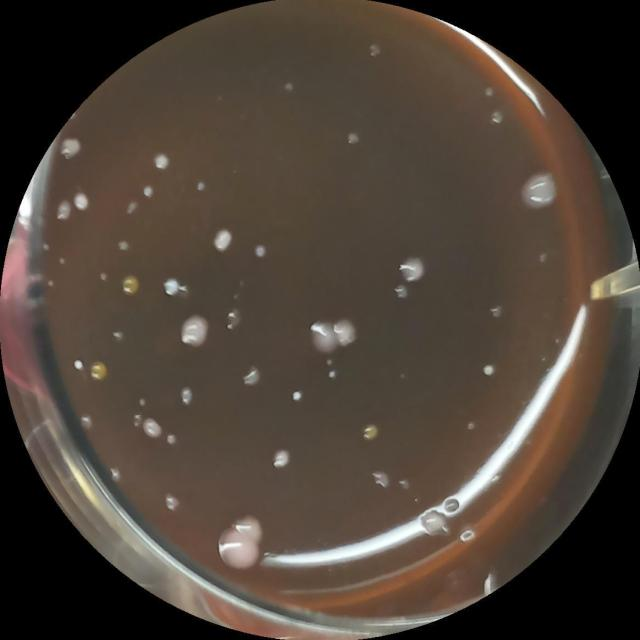Staphylococcus: (72, 357, 85, 372)
